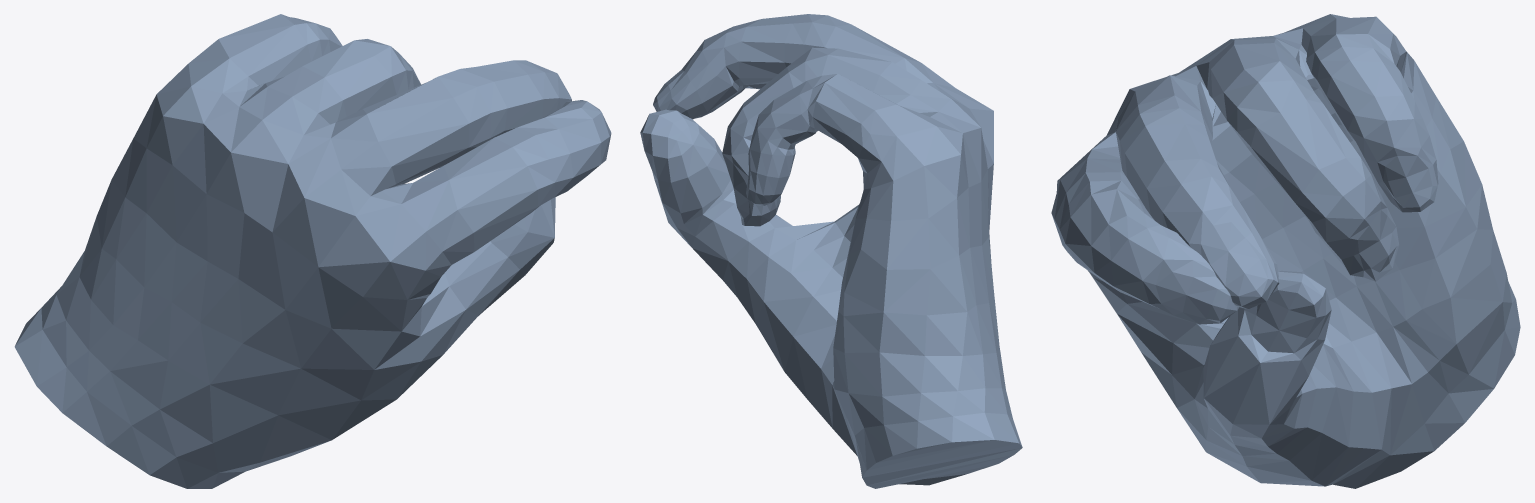
The picture shows the model from 3 angles, left to right: view 1: azimuth 30°, elevation 25°; view 2: azimuth 150°, elevation 25°; view 3: azimuth 270°, elevation 25°; orthographic projection. The views are drawn at different scales.
Size of the model in its own units: 0.1311 by 0.1174 by 0.1004.
